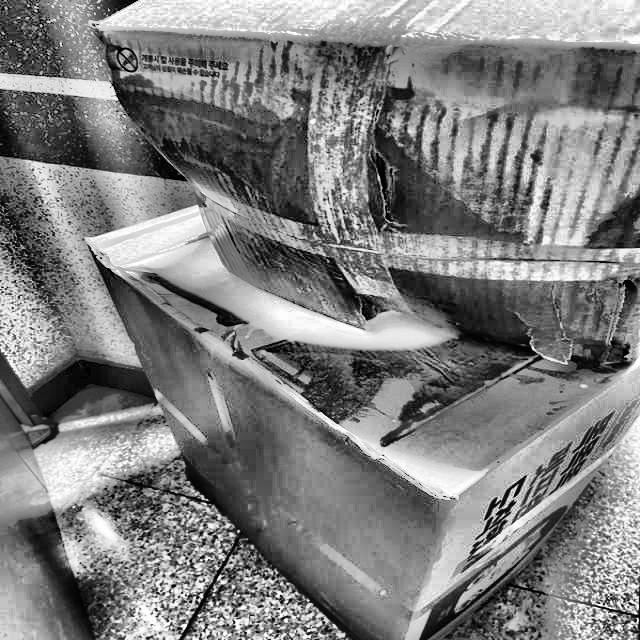box: (79, 0, 639, 378)
wet: (116, 72, 634, 358)
